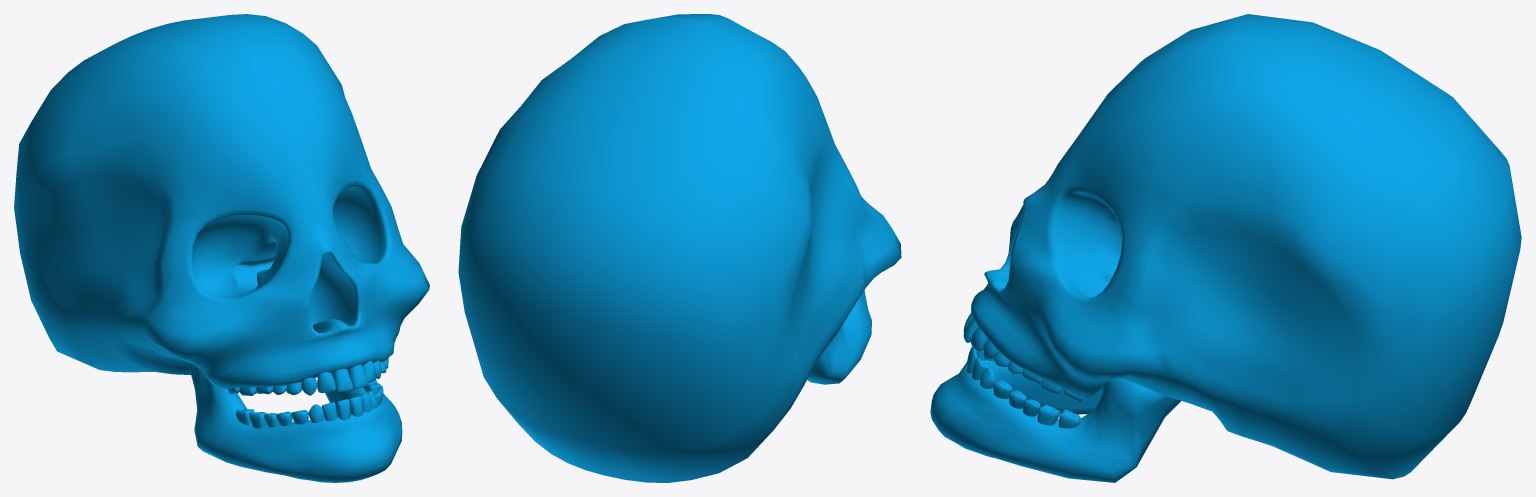
The model's file is skull.obj.
3 views of the same model, side by side, from view 1: azimuth 30°, elevation 25°; view 2: azimuth 150°, elevation 25°; view 3: azimuth 270°, elevation 25° (orthographic). The views are drawn at different scales.
Visible parts, largest first — view 1: Skull_Circle.002; view 2: Skull_Circle.002; view 3: Skull_Circle.002.
Part boxes in pixels (<box>): Skull_Circle.002: <box>14,14,429,482</box>; Skull_Circle.002: <box>458,14,901,482</box>; Skull_Circle.002: <box>930,14,1521,482</box>.
Size of the model in its own units: 0.5733 by 0.6729 by 0.8707.
2 materials, 2 textured.
